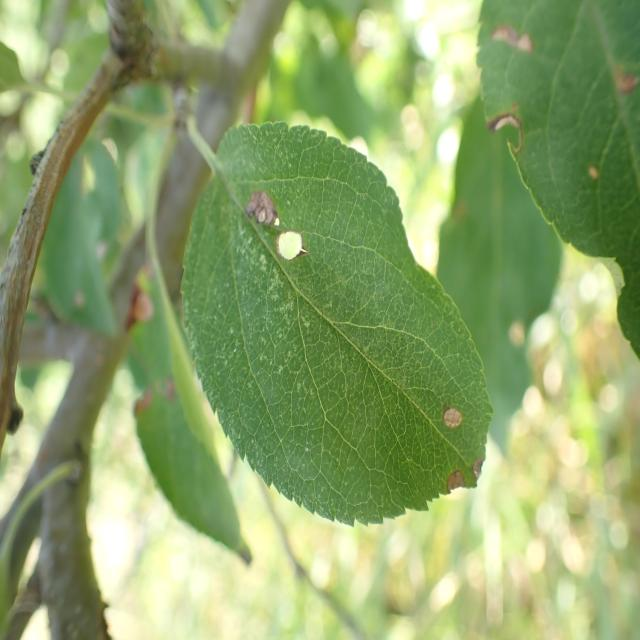Black Rot: (410, 383, 483, 447), (487, 11, 553, 79), (119, 256, 164, 342), (483, 86, 526, 170), (237, 167, 282, 247), (266, 219, 314, 288), (608, 35, 640, 114), (568, 139, 603, 200), (435, 458, 466, 516), (464, 449, 493, 486)
